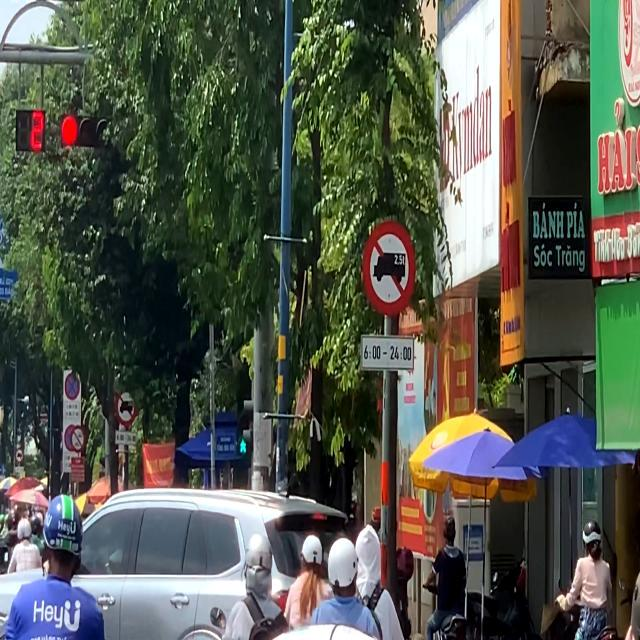Cam dung xe va do xe: (64, 372, 80, 400)
Cam xe tai tren 2_5: (362, 218, 416, 316), (115, 387, 137, 427)
